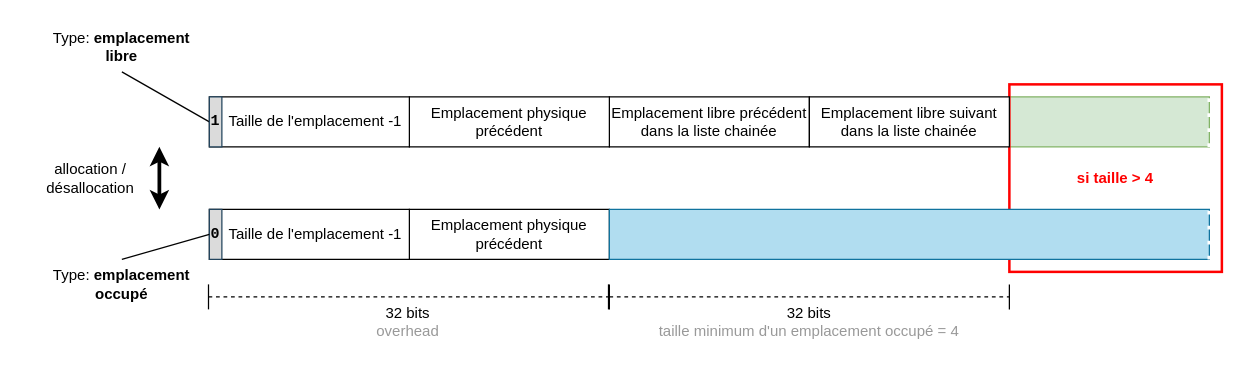
This 1244x368 diagram has some shape labels left out. Each missing label, with the centre of its shape:
"Données utilisateur" goes at [908,233].
"Espace inutilisé" goes at [1108,121].
